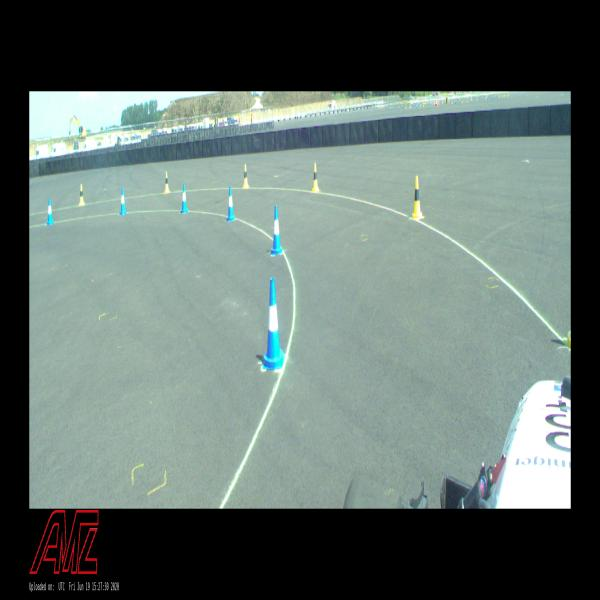blue_cone: (262, 278, 286, 370), (270, 205, 283, 256), (226, 186, 235, 222), (181, 184, 188, 213), (47, 198, 54, 225), (120, 188, 126, 215)
yellow_cone: (410, 176, 424, 221), (312, 163, 320, 192), (243, 164, 249, 188), (79, 184, 85, 205), (164, 172, 170, 193)
